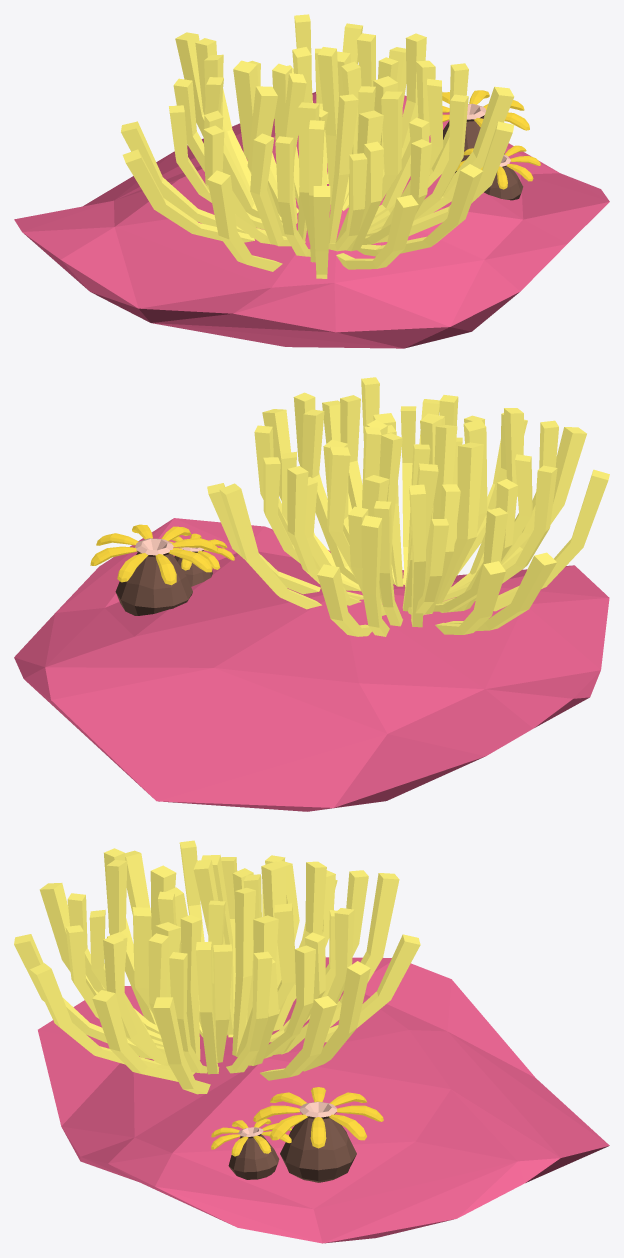
The model's file is Coralls_012.glb.
3 renders of one model, top to bottom at view 1: azimuth 30°, elevation 25°; view 2: azimuth 150°, elevation 25°; view 3: azimuth 270°, elevation 25°, orthographic. The views are drawn at different scales.
Parts seen in each view (by area): view 1: Coralls_012; view 2: Coralls_012; view 3: Coralls_012.
Part boxes in pixels (box(x1,y1,x2,y2)): Coralls_012: box(14, 14, 609, 348); Coralls_012: box(14, 377, 609, 811); Coralls_012: box(14, 840, 609, 1243).
Bounding box in the file's own units: 2.12 × 1.19 × 2.15.
Materials: 2 (2 with a texture image).
